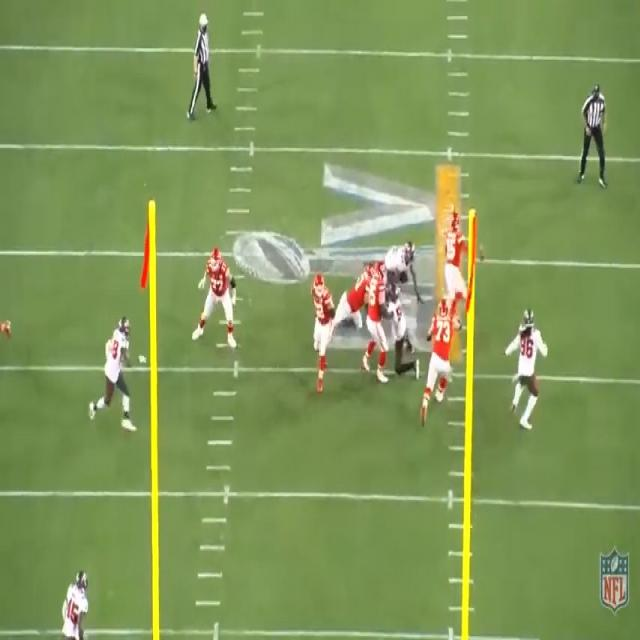players: (88, 315, 148, 434), (507, 295, 549, 428), (417, 305, 460, 431), (187, 232, 232, 342), (303, 265, 336, 388), (384, 281, 420, 381), (445, 209, 471, 328), (61, 557, 95, 640), (365, 256, 386, 387), (383, 233, 415, 272)
